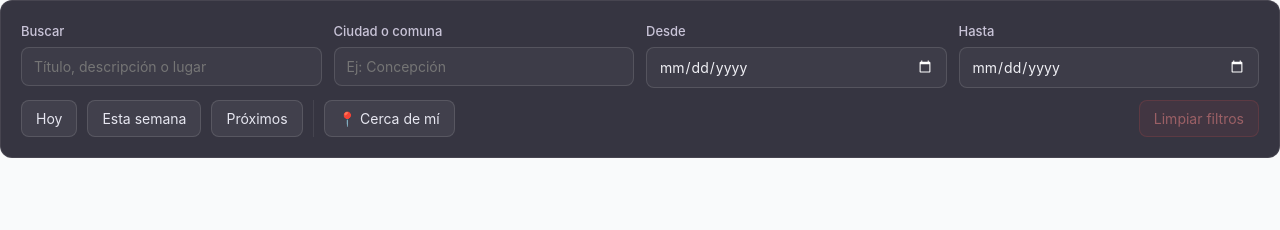
Test: EventFilters — "Cerca de mí" elige la comuna más cercana › reports that no comuna was found when the position is outside Chile
What coordinates should you click on to do the following:
click the button "📍 Cerca de mí"
I would click on:
 (389, 118)
Its box is [324,100,455,137].
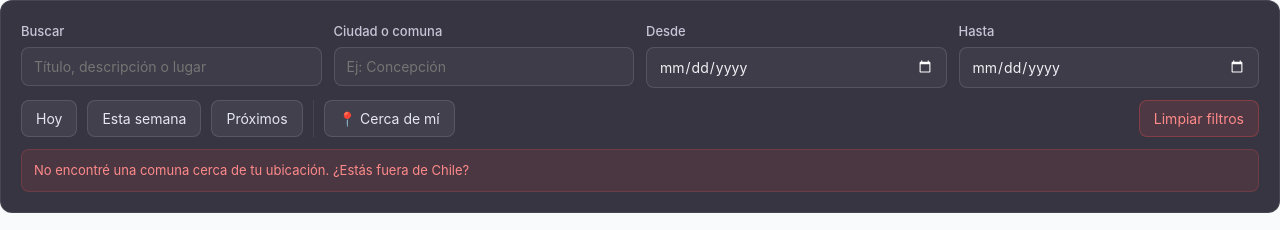
Result: the message shows "No encontré una comuna" at [34,162,469,178]
